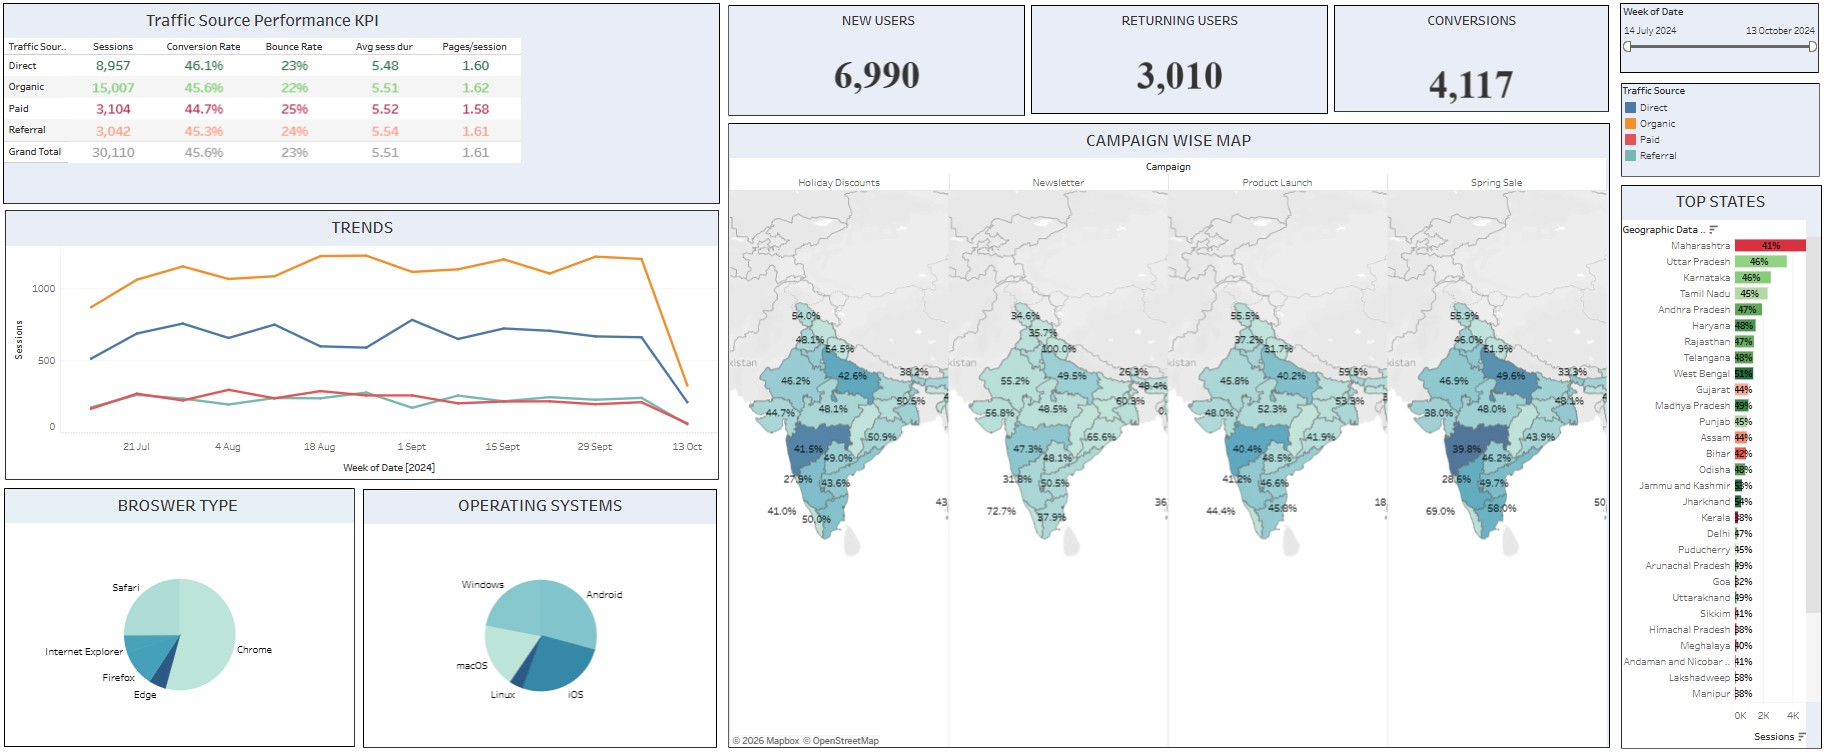

The page's visual inventory and layout, read from the dashboard file:
{"tool":"tableau","page":{"name":"SWIGGY DASHBOARD","canvas":[1000,1000],"units":"permille","ordinal":0},"visuals":[{"type":"worksheet","title":"KPI","mark":"Automatic","rows":["Traffic Source"],"box":[16.4,27.9,387.4,261.2]},{"type":"filter","title":"TREND","param":"[federated.1beg2kq1gw9n0j14ydck91wg8vqh].[twk:Date:qk]","box":[884.7,30.1,106.5,90.4]},{"type":"worksheet","title":"NEW USERS","mark":"Text","box":[406.7,32.4,159.2,141.7]},{"type":"worksheet","title":"RETURNING USERS","mark":"Text","box":[568.8,32.4,159.7,139.5]},{"type":"worksheet","title":"CONVERSIONS","mark":"Text","box":[731.4,32.4,147.5,137.3]},{"type":"legend","title":"TREND","param":"[federated.1beg2kq1gw9n0j14ydck91wg8vqh].[none:Traffic Source:nk]","box":[885.3,132.8,106.5,119.4]},{"type":"worksheet","title":"CAMPAIGN WISE MAP","mark":"Automatic","cols":["Campaign"],"box":[406.7,183,472.8,796.9]},{"type":"worksheet","title":"TOP STATES","mark":"Automatic","rows":["Geographic Data - Country"],"cols":["Sessions"],"box":[885.3,262.3,107.7,718.8]},{"type":"worksheet","title":"TREND","mark":"Automatic","rows":["Sessions"],"cols":["Date"],"box":[18.7,294.6,382.7,343.8]},{"type":"worksheet","title":"BROWSER TYPE ","mark":"Pie","box":[18.1,648.4,188.4,330.4]},{"type":"worksheet","title":"OPERATING SYSTEMS","mark":"Pie","box":[210.7,649.6,190.2,330.4]}]}

Visuals, with their boxes on the dashboard's canvas, which has no fixed pixel size, in thousandths of its width and height (x1, y1, x2, y2). These are canvas units, not pixel positions in the 1826x752 screenshot, which may show the page scaled, cropped or inside an application window:
"KPI" worksheet: Rect(16, 28, 404, 289)
"TREND" filter: Rect(885, 30, 991, 120)
"NEW USERS" worksheet (Text marks): Rect(407, 32, 566, 174)
"RETURNING USERS" worksheet (Text marks): Rect(569, 32, 728, 172)
"CONVERSIONS" worksheet (Text marks): Rect(731, 32, 879, 170)
"TREND" legend: Rect(885, 133, 992, 252)
"CAMPAIGN WISE MAP" worksheet: Rect(407, 183, 880, 980)
"TOP STATES" worksheet: Rect(885, 262, 993, 981)
"TREND" worksheet: Rect(19, 295, 401, 638)
"BROWSER TYPE " worksheet (Pie marks): Rect(18, 648, 206, 979)
"OPERATING SYSTEMS" worksheet (Pie marks): Rect(211, 650, 401, 980)
